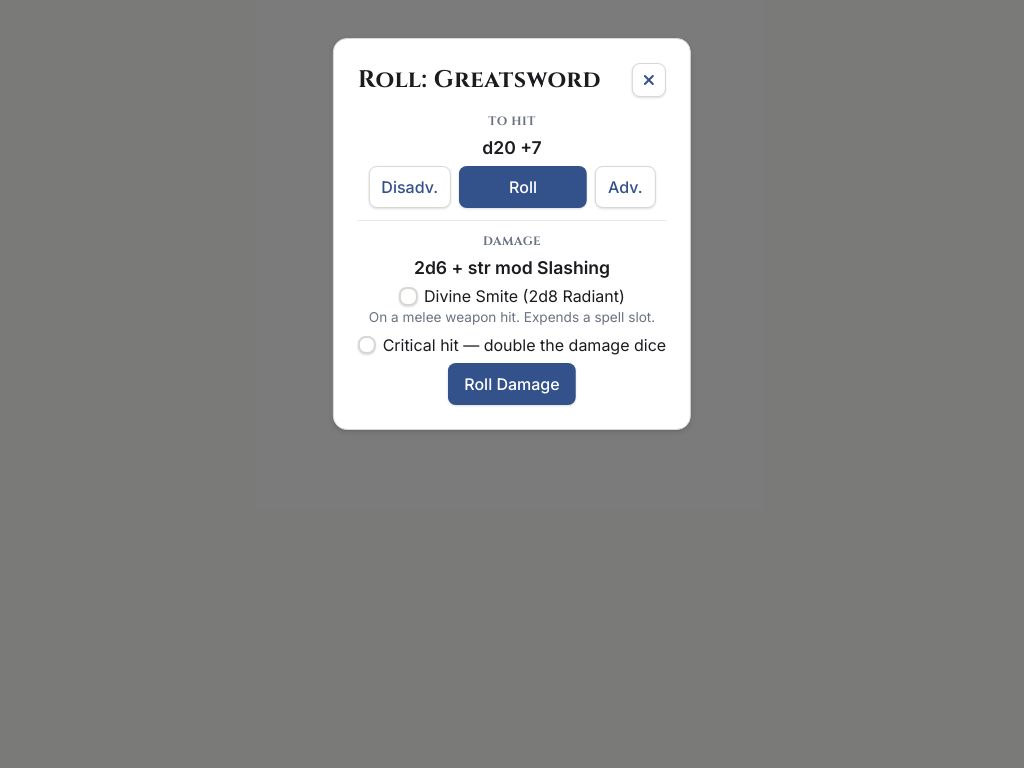
Test case: RollModal — critical hits › ticks itself when the to-hit roll crits
The image size is (1024, 768).
Check: the checkbox labelled "Critical hit — double the damage dice" is not checked, box [358,336,376,354]
Math.random is pinned high, so the d20 lands on 20.
Click the button "Roll" at (523, 187), box [459,166,587,208]
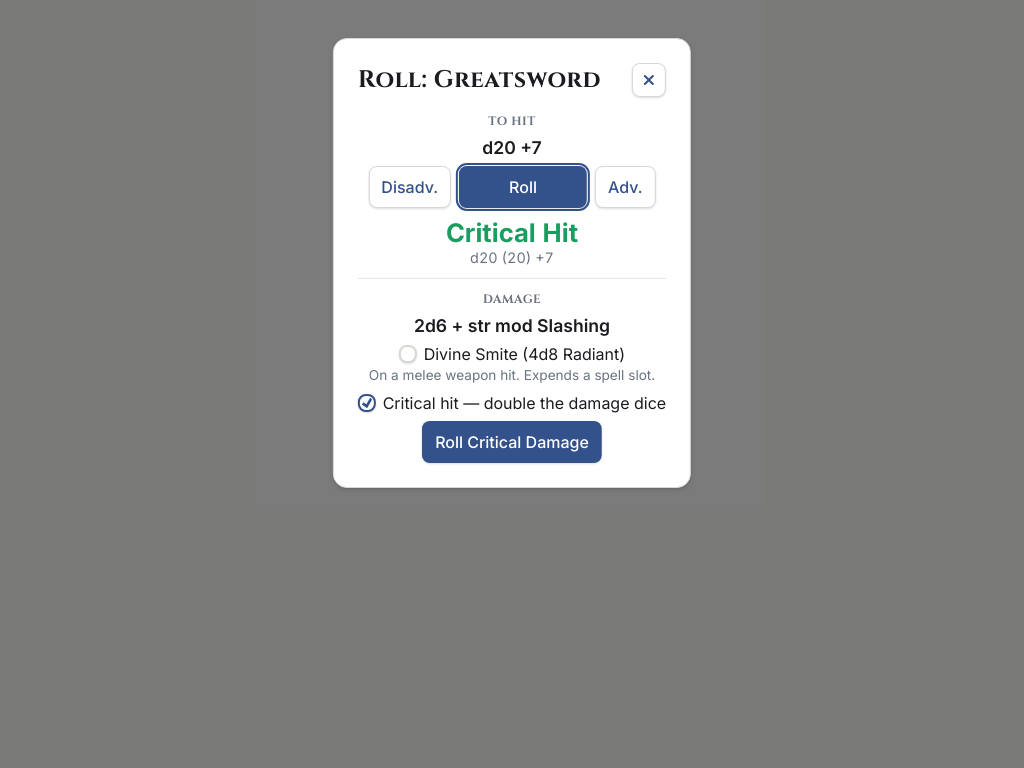
Check: the checkbox labelled "Critical hit — double the damage dice" is checked, box [358,394,376,412]
Check: the text "Critical Hit" is shown, box [446,220,578,246]
